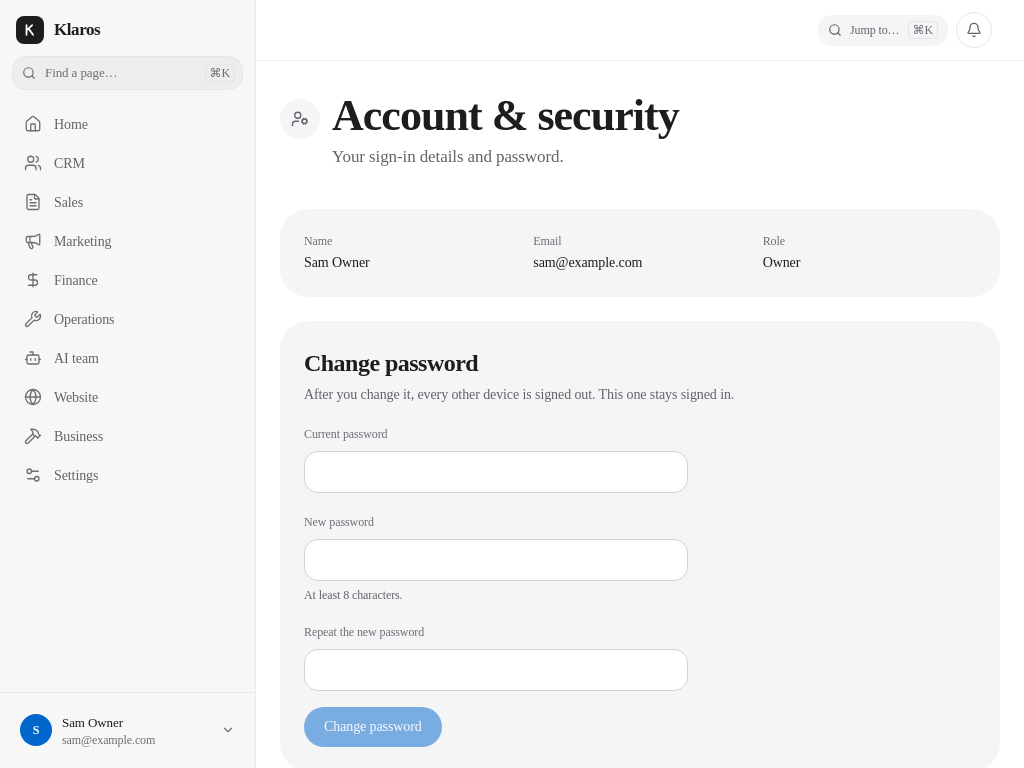
Test: Account & security › changes the password and keeps this session alive with the fresh tokens
Type "old-password-1" into the password field labelled "Current password" at x=496, y=472, box [304,451,688,493]
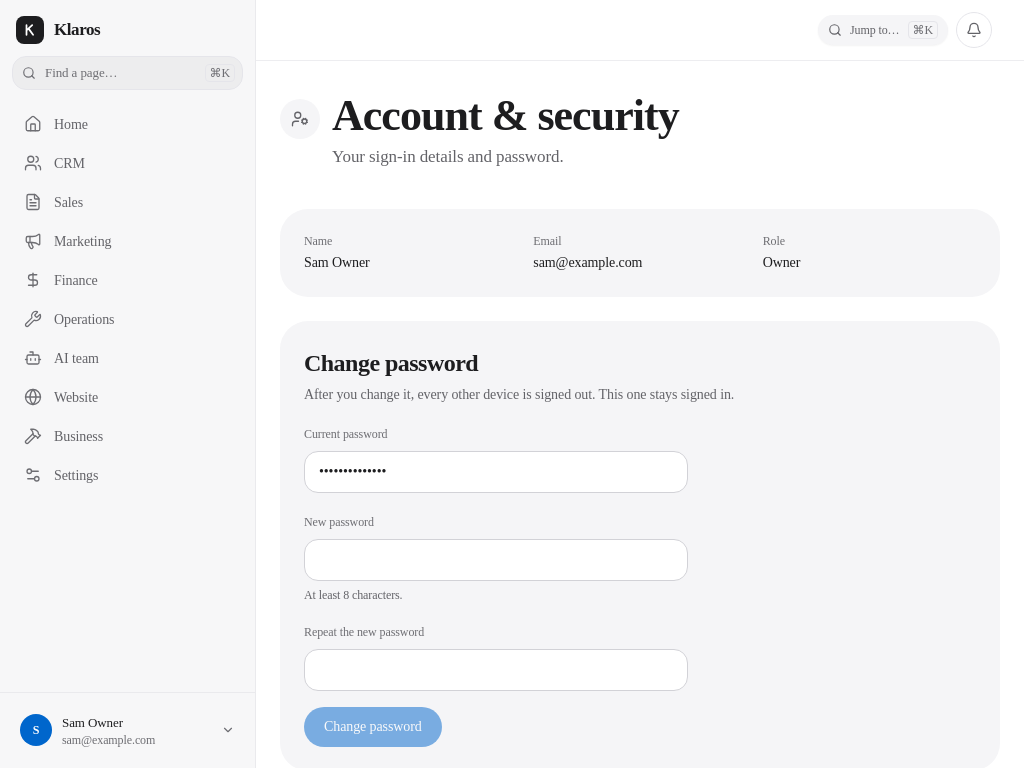
Type "a-much-better-one" into the password field labelled "New password" at x=496, y=560, box [304,539,688,581]
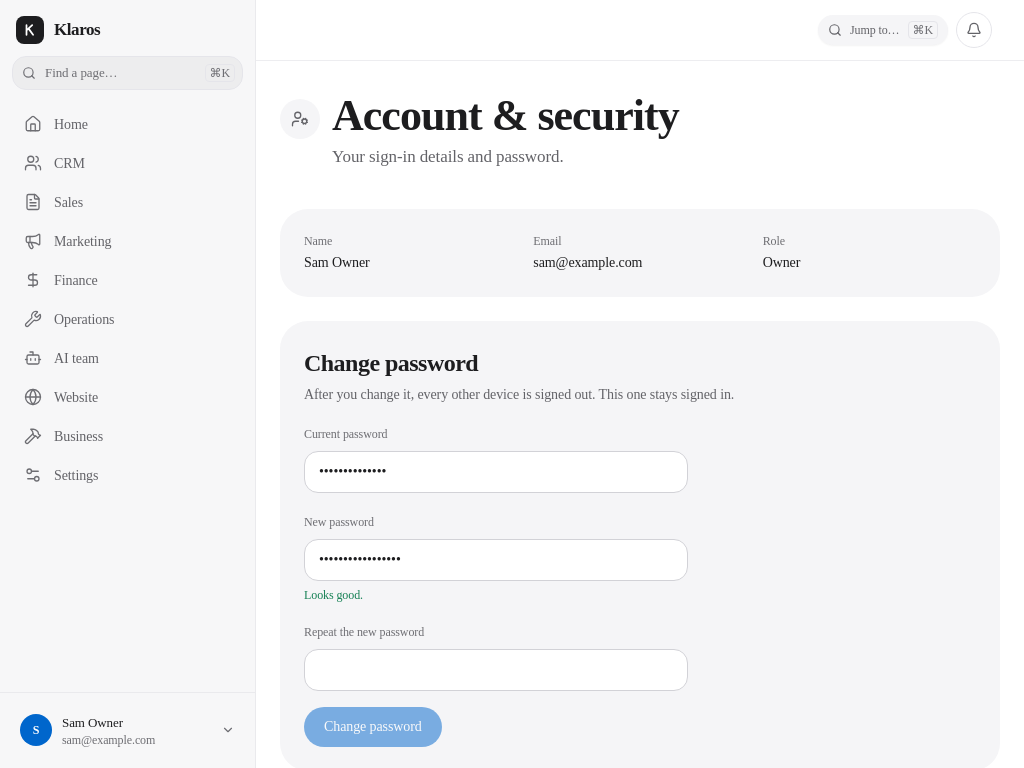
Type "a-much-better-one" into the password field labelled "Repeat the new password" at x=496, y=670, box [304,649,688,691]
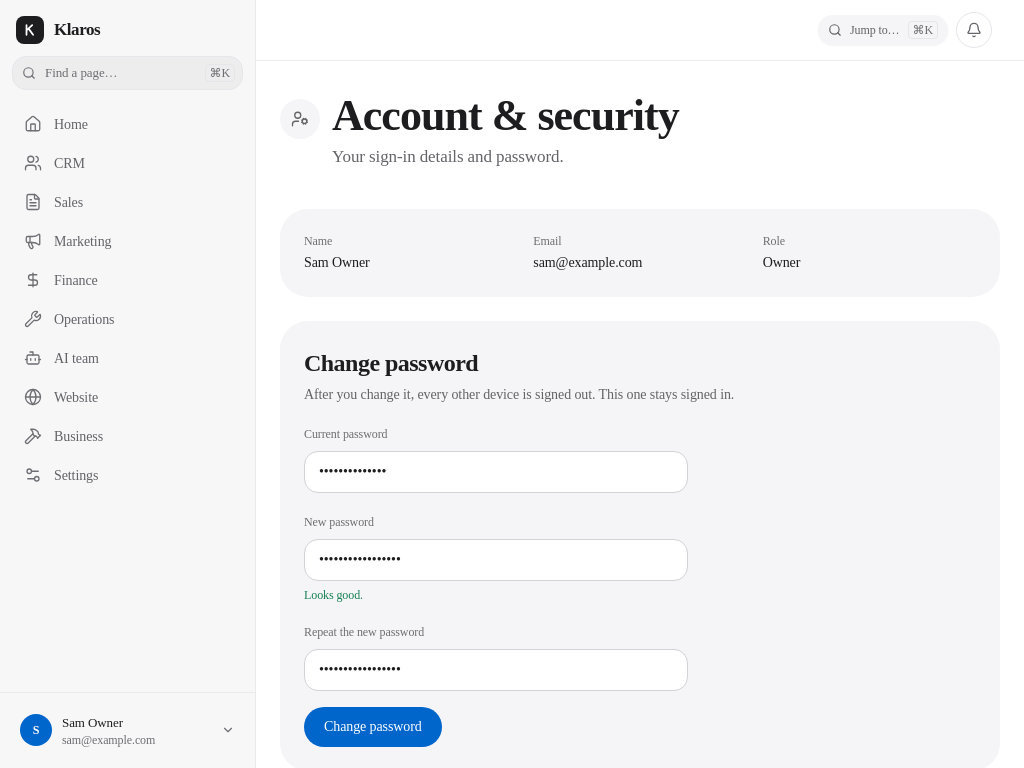
Click the button "Change password" at x=373, y=727, box [304,707,442,747]
(page scrolled)
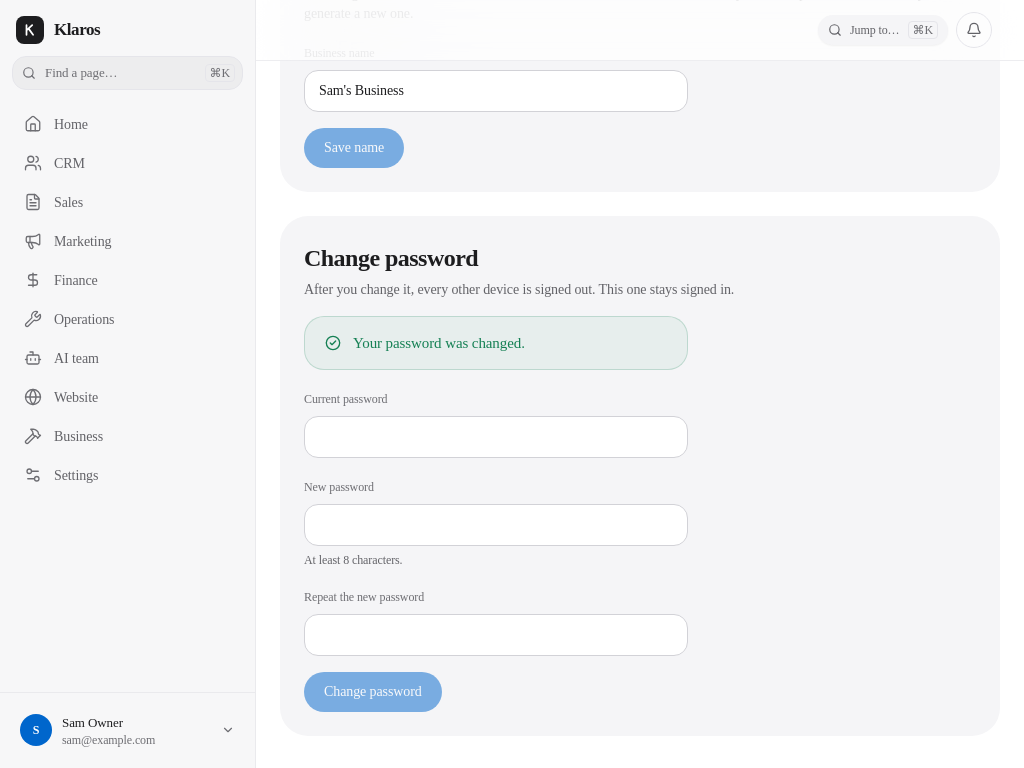
Now the text "Your password was changed." is shown, box [353,335,525,351]
Now the password field labelled "Current password" is empty, box [304,416,688,458]
